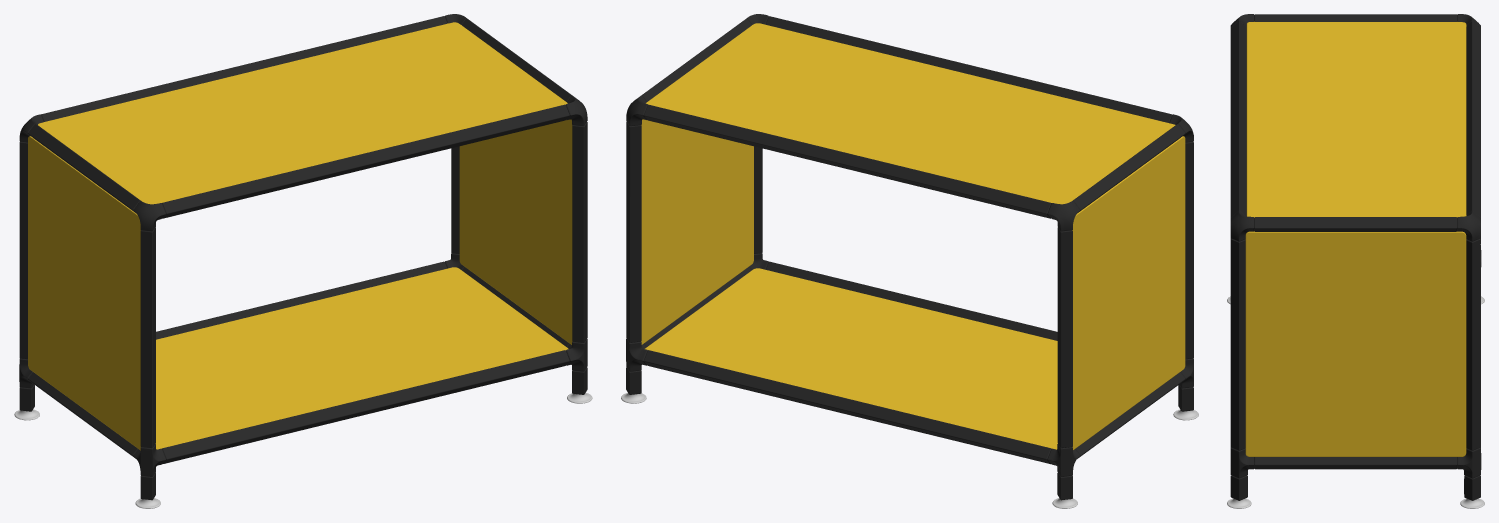
3 renders of one model, left to right at view 1: azimuth 30°, elevation 25°; view 2: azimuth 150°, elevation 25°; view 3: azimuth 270°, elevation 25°, orthographic. The views are drawn at different scales.
Parts seen in each view (by area): view 1: 729x329x374; view 2: 729x329x374; view 3: 729x329x374.
Part boxes in pixels (<box>): 729x329x374: <box>14,14,592,508</box>; 729x329x374: <box>621,14,1198,508</box>; 729x329x374: <box>1227,14,1484,508</box>.
Bounding box in the file's own units: 0.8189 × 0.5134 × 0.4181.
